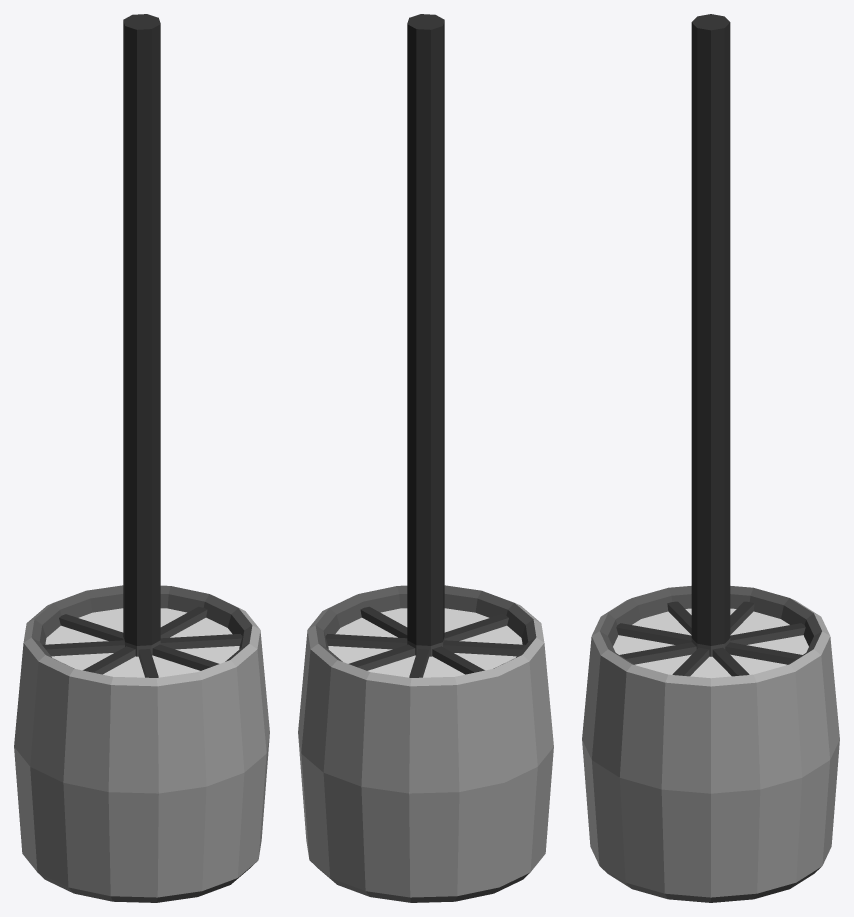
The model's file is ToiletBrush.fbx.
3 views of the same model, side by side, from view 1: azimuth 30°, elevation 25°; view 2: azimuth 150°, elevation 25°; view 3: azimuth 270°, elevation 25° (orthographic).
Visible parts, largest first — view 1: Prop_ToiletBrush_01; view 2: Prop_ToiletBrush_01; view 3: Prop_ToiletBrush_01.
Part boxes in pixels (x1,y1,x2,y2): Prop_ToiletBrush_01: [14, 14, 269, 902]; Prop_ToiletBrush_01: [298, 14, 553, 902]; Prop_ToiletBrush_01: [582, 14, 839, 902].
Size of the model in its own units: 18.49 by 65.9 by 18.49.
1 material, 1 textured.
